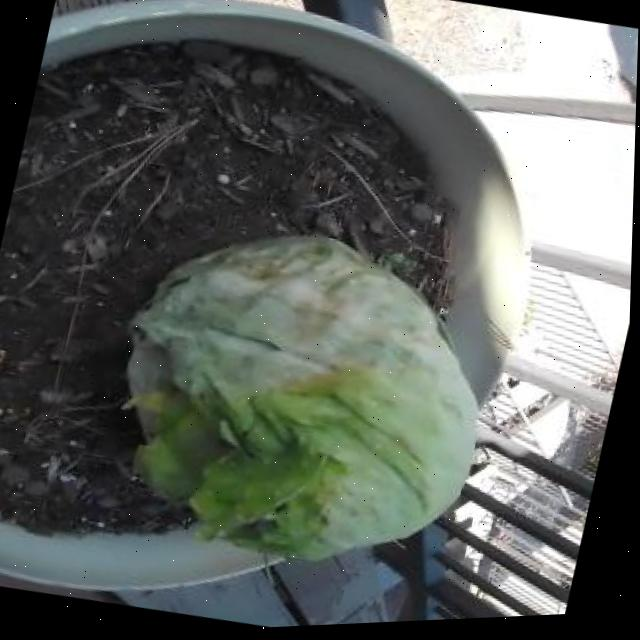Wet: (61, 186, 538, 606)
